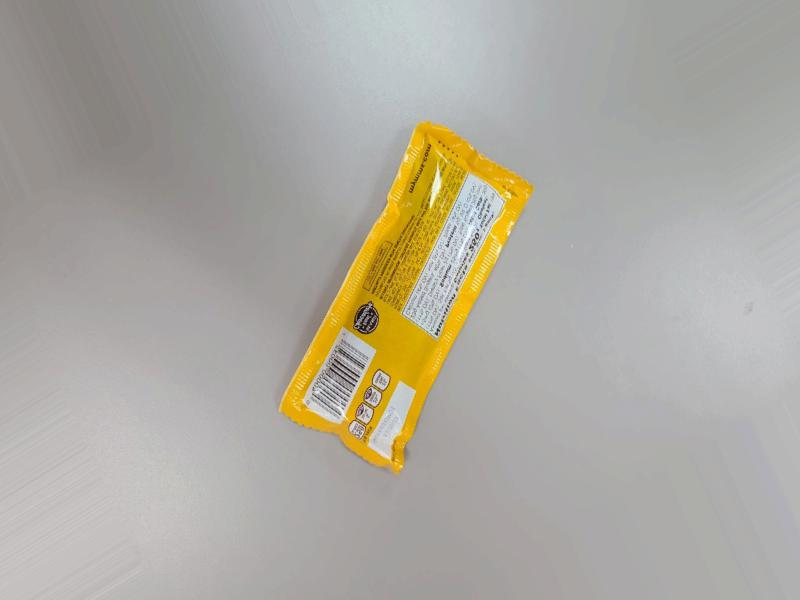m&m: (288, 137, 524, 480)
